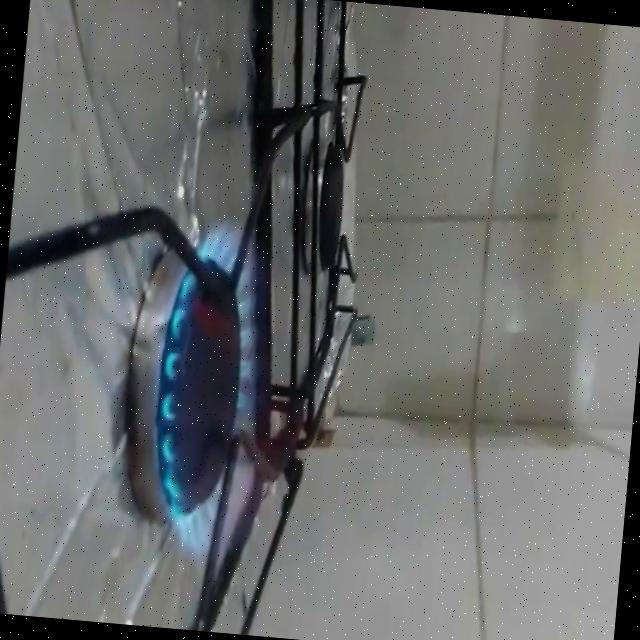fire: (146, 217, 281, 567)
